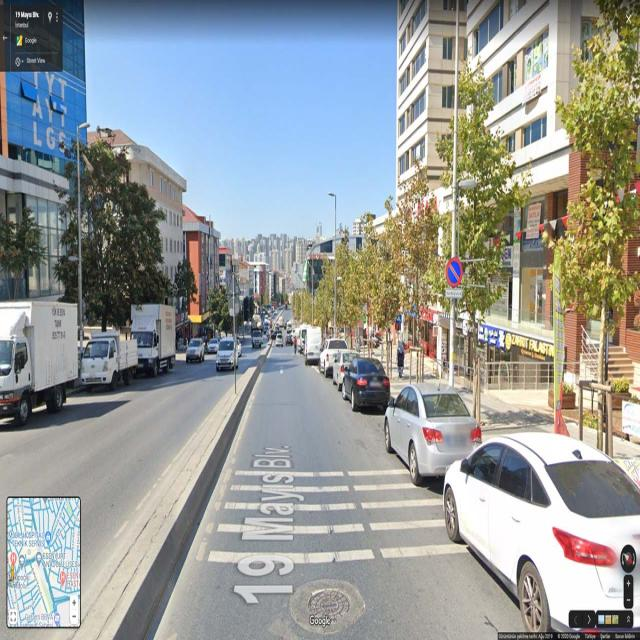parkyasak: (447, 256, 462, 287)
